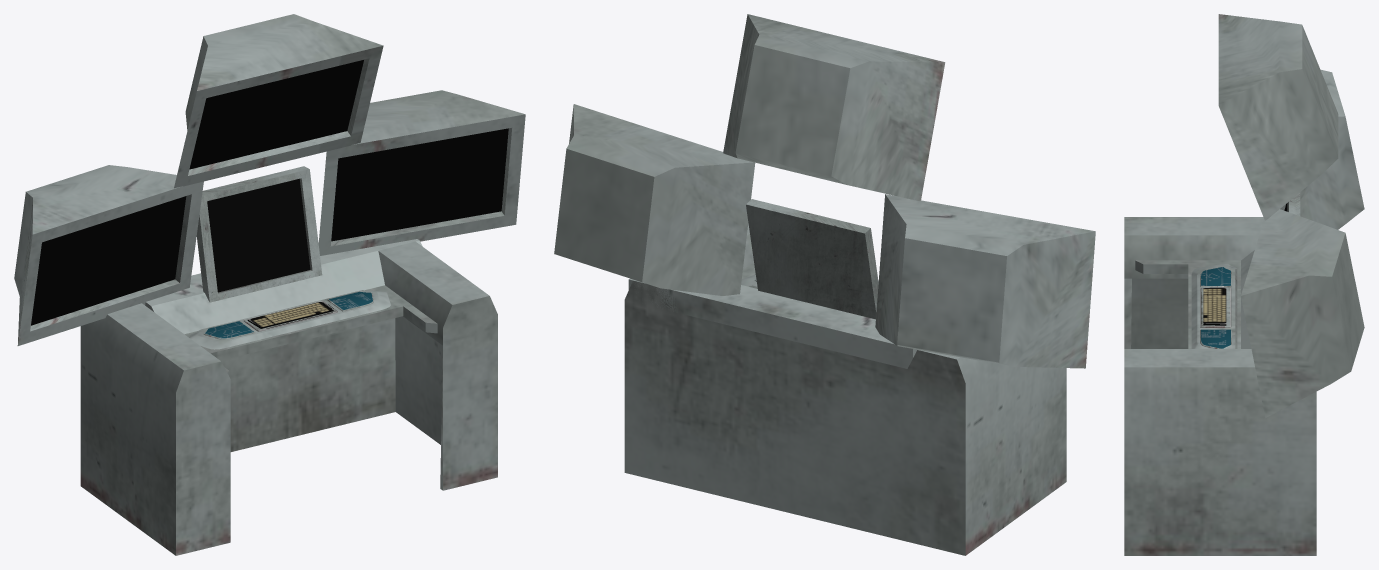
The model's file is computer.glb.
The picture shows the model from 3 angles, left to right: view 1: azimuth 30°, elevation 25°; view 2: azimuth 150°, elevation 25°; view 3: azimuth 270°, elevation 25°; orthographic projection. The views are drawn at different scales.
Visible parts, largest first — view 1: computer-col; view 2: computer-col; view 3: computer-col.
Boxes of the visible parts, box(x1,y1,x2,y2) form: computer-col: box(14, 14, 525, 555); computer-col: box(554, 14, 1095, 555); computer-col: box(1124, 14, 1364, 555).
Size of the model in its own units: 2.6 by 2.13 by 1.08.
Materials: 4 (3 with a texture image).
